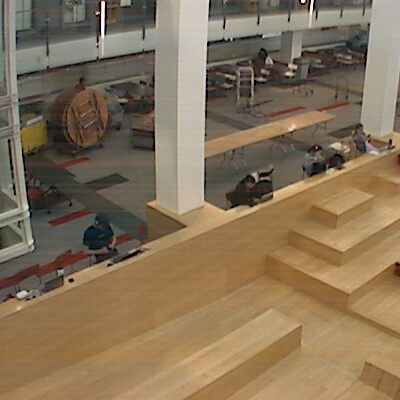head: (94, 213, 111, 230), (308, 142, 324, 158), (242, 175, 257, 190), (351, 123, 365, 137), (77, 75, 88, 86)
